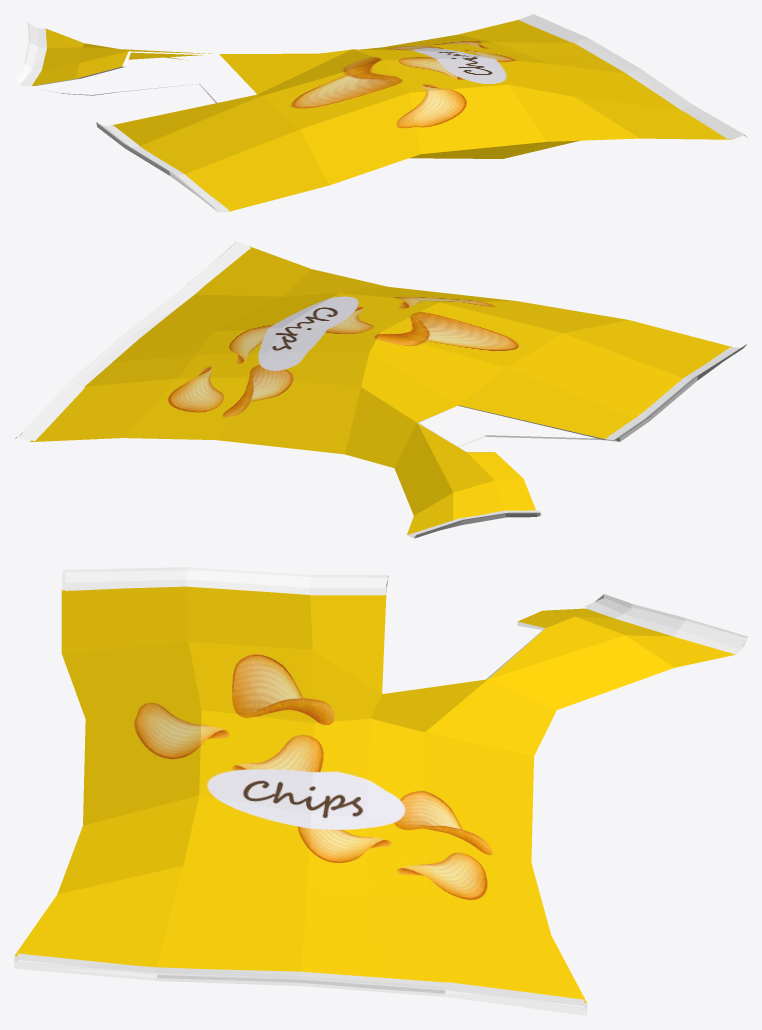
The model's file is chips-yellow.gltf.
3 views of the same model, one above another, from view 1: azimuth 30°, elevation 25°; view 2: azimuth 150°, elevation 25°; view 3: azimuth 270°, elevation 25° (orthographic). The views are drawn at different scales.
Parts seen in each view (by area): view 1: Cube; view 2: Cube; view 3: Cube.
Part boxes in pixels (x1=…): Cube: x1=14, y1=14, x2=747, y2=212; Cube: x1=15, y1=241, x2=746, y2=538; Cube: x1=14, y1=567, x2=747, y2=1015.
Size of the model in its own units: 0.6632 by 0.1194 by 0.6029.
2 materials, 1 textured.
